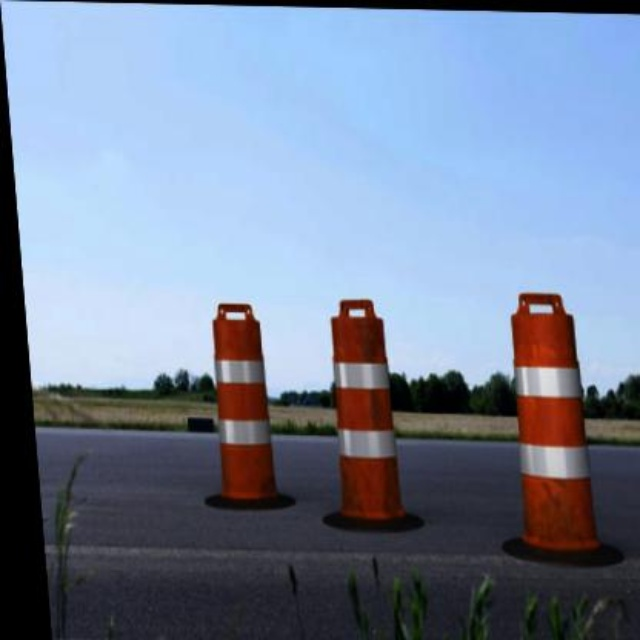obstacle: (494, 286, 596, 555), (321, 296, 402, 519), (197, 293, 278, 502)
